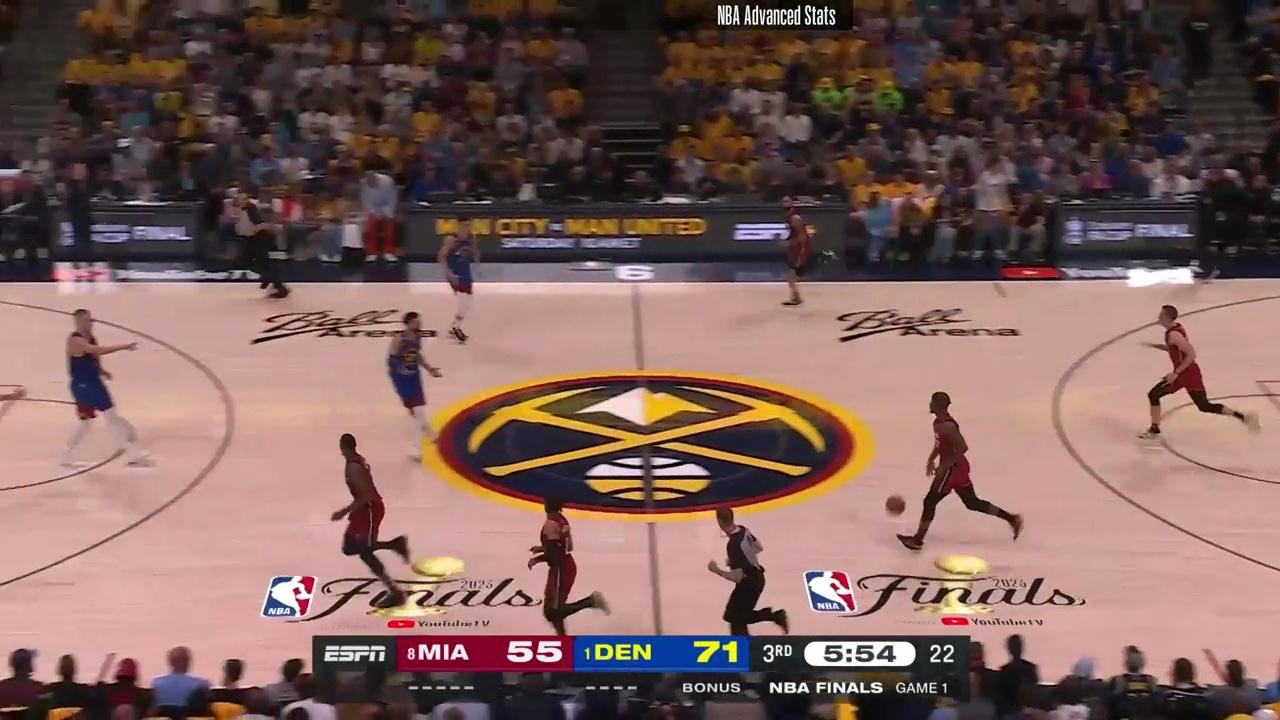Ball: (884, 495, 906, 515)
Person: (904, 386, 1030, 554), (319, 434, 440, 607), (1138, 301, 1257, 449), (50, 305, 142, 472), (524, 486, 610, 644), (378, 307, 448, 452), (434, 216, 487, 341), (770, 196, 821, 312)
Referee: (706, 505, 785, 639), (224, 181, 299, 307)
